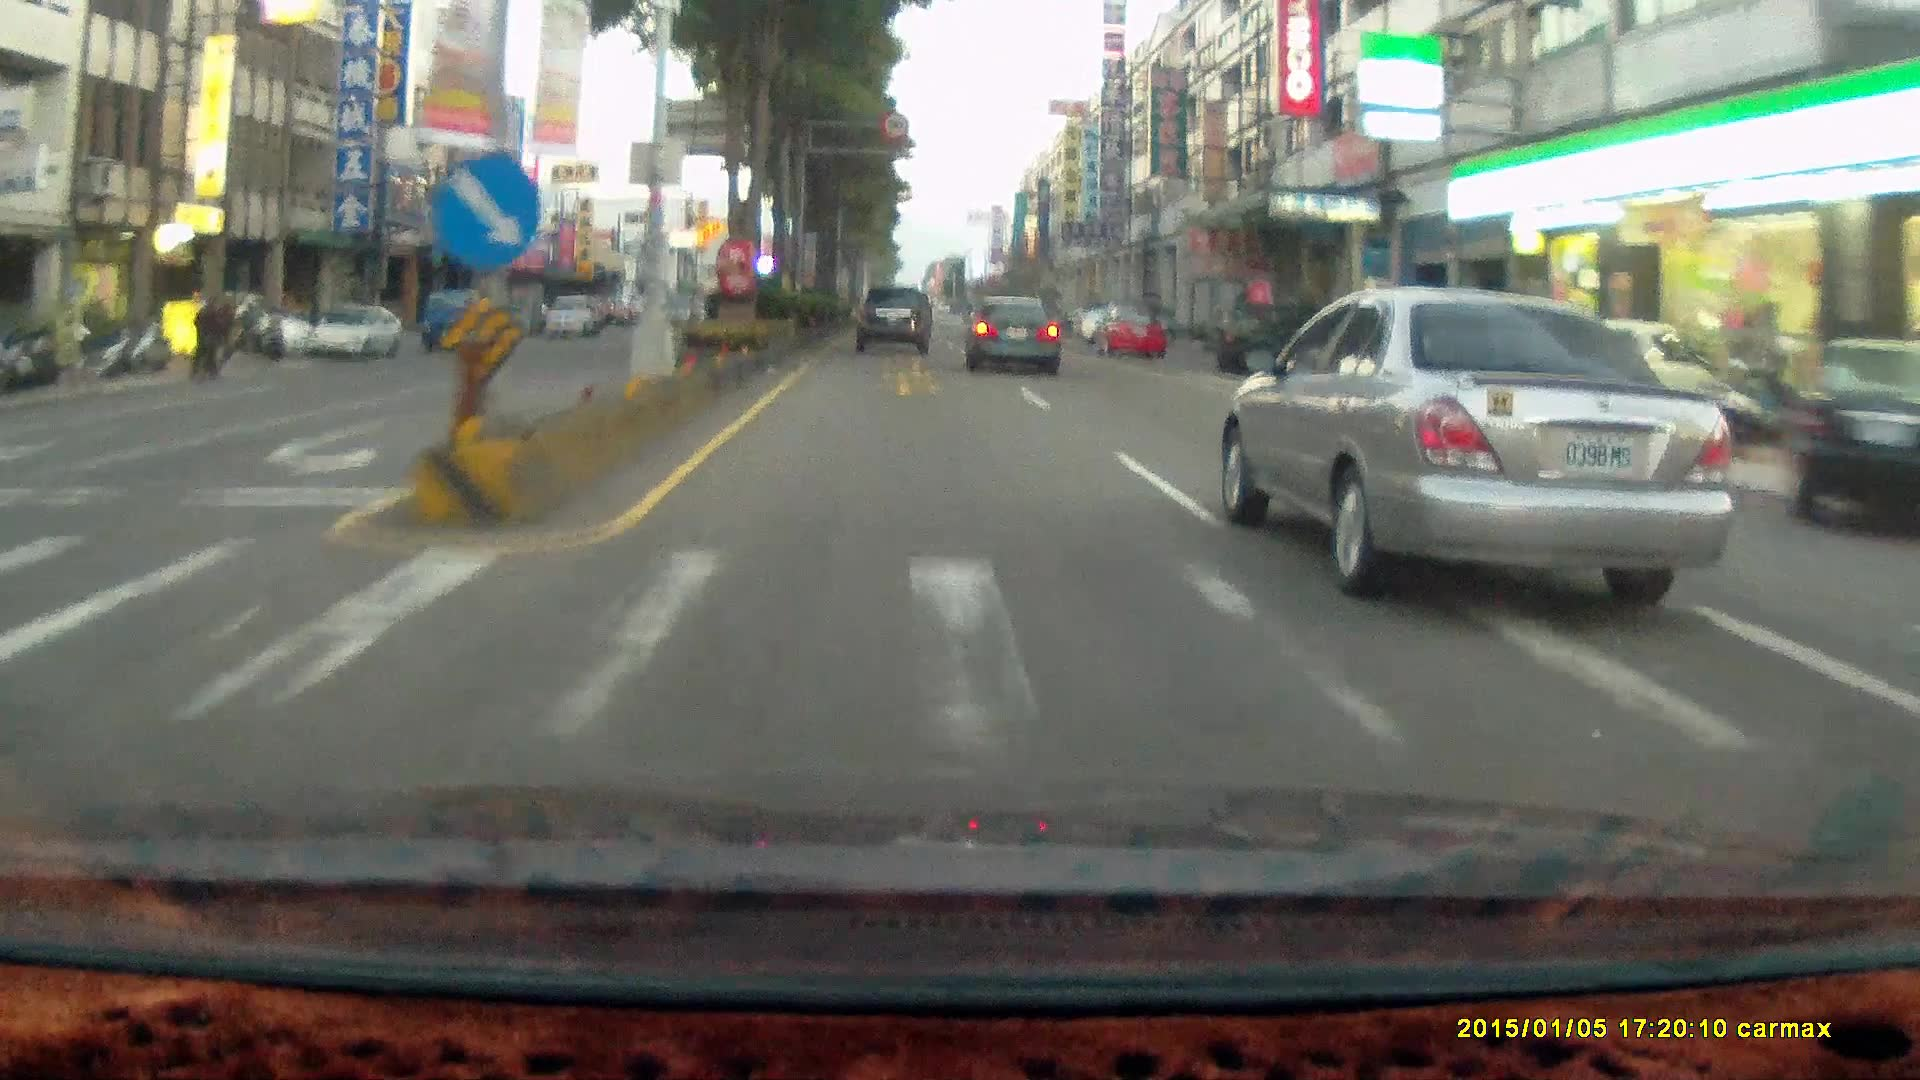pedestrian: (198, 293, 230, 380), (195, 295, 225, 382)
vehicle: (1227, 286, 1735, 594), (1785, 337, 1920, 541), (1534, 318, 1722, 459), (1789, 337, 1920, 532), (1354, 316, 1515, 429), (1226, 309, 1377, 383), (1213, 300, 1363, 374), (186, 287, 311, 353), (965, 295, 1064, 376), (963, 296, 1062, 374), (423, 285, 518, 353), (301, 305, 407, 364), (854, 286, 935, 359), (855, 285, 932, 355), (420, 289, 500, 352), (306, 304, 403, 356), (1093, 302, 1170, 361), (1089, 303, 1164, 358), (546, 294, 599, 339)
